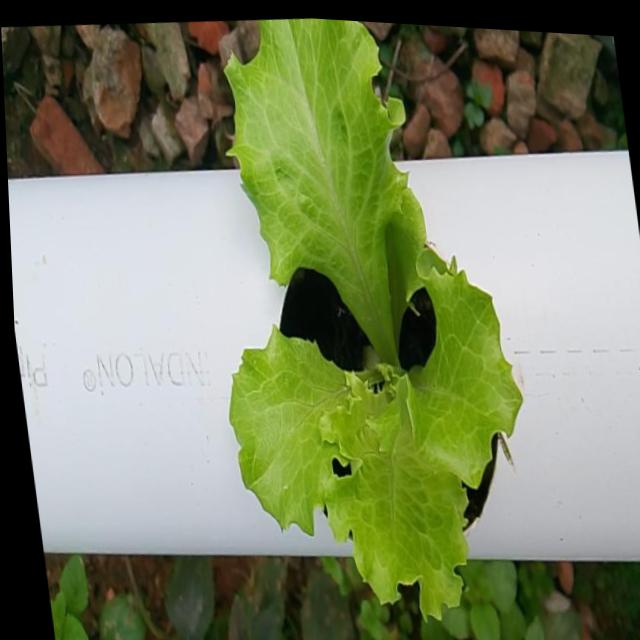Baby: (225, 18, 522, 621)
